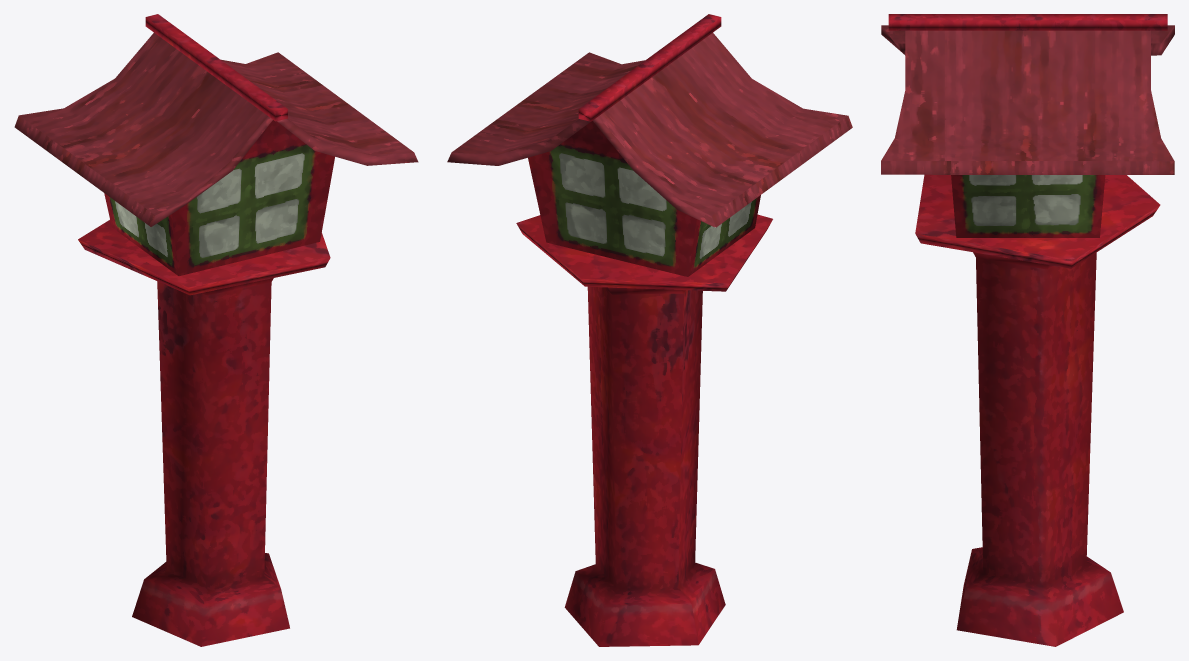
File: tourou.fbx
3 renders of one model, left to right at view 1: azimuth 30°, elevation 25°; view 2: azimuth 150°, elevation 25°; view 3: azimuth 270°, elevation 25°, orthographic. The views are drawn at different scales.
Visible parts, largest first — view 1: pCylinder2; view 2: pCylinder2; view 3: pCylinder2.
Part boxes in pixels (bbox=[...]): pCylinder2: bbox=[14, 14, 418, 646]; pCylinder2: bbox=[447, 14, 852, 646]; pCylinder2: bbox=[881, 14, 1174, 646].
Bounding box in the file's own units: 6.17 × 12.11 × 5.45.
